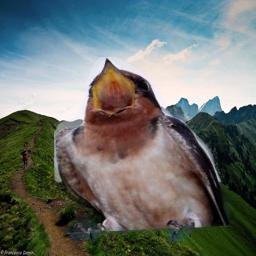Swallow: (54, 57, 229, 242)
